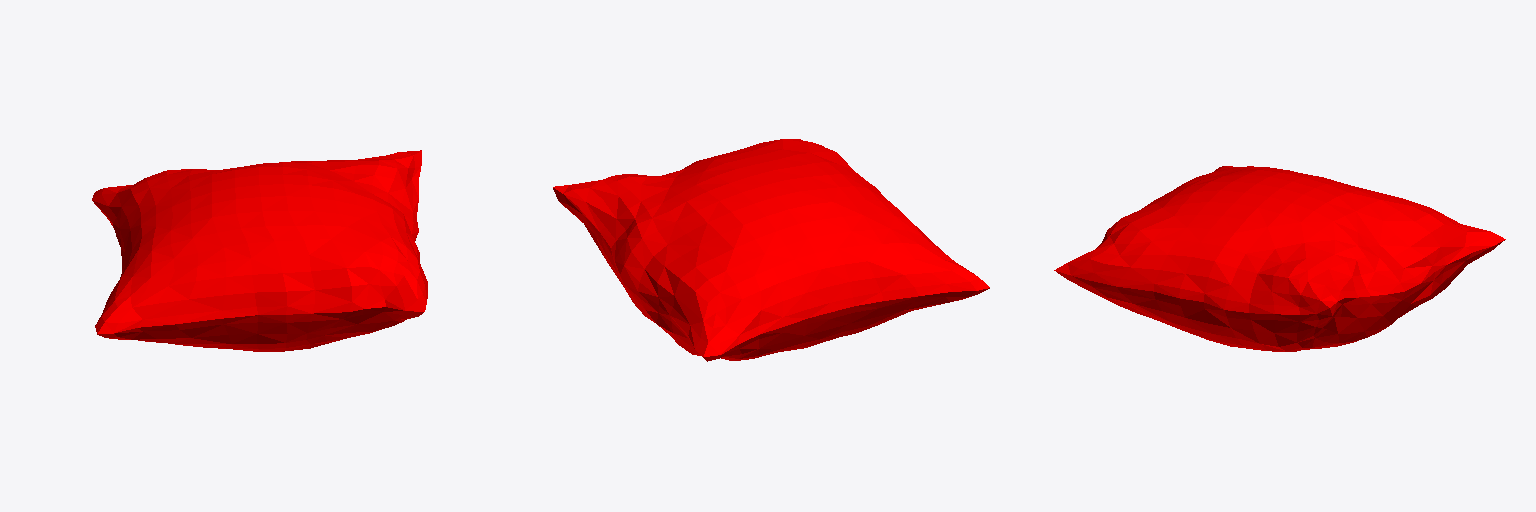
The model's file is pillow_pink.obj.
The picture shows the model from 3 angles: view 1: azimuth 30°, elevation 25°; view 2: azimuth 150°, elevation 25°; view 3: azimuth 270°, elevation 25°; orthographic projection.
Parts seen in each view (by area): view 1: Pillow_Left_Cube; view 2: Pillow_Left_Cube; view 3: Pillow_Left_Cube.
Boxes of the visible parts, <box> form: Pillow_Left_Cube: <box>92,150,427,351</box>; Pillow_Left_Cube: <box>553,139,989,361</box>; Pillow_Left_Cube: <box>1054,166,1505,351</box>.
Bounding box in the file's own units: 71.17 × 25.02 × 72.98.